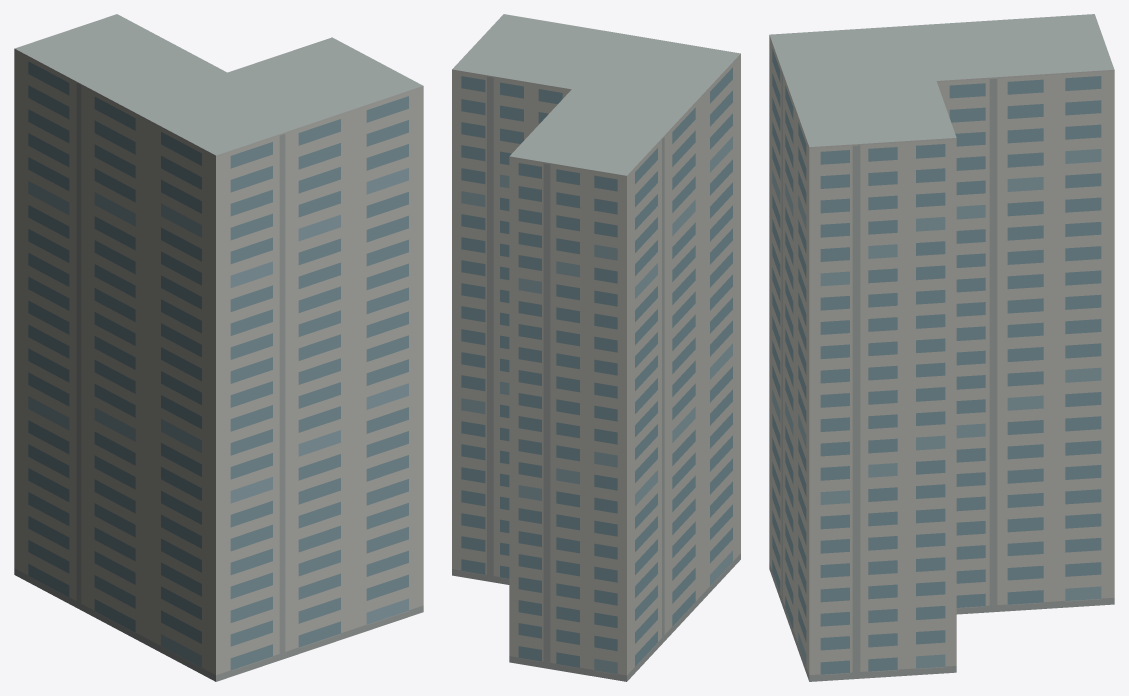
Rendered from residential-294091d3-6274-4f17-ba25-ad09cb0d39b6.glb.
3 views of the same model, side by side, from view 1: azimuth 30°, elevation 25°; view 2: azimuth 150°, elevation 25°; view 3: azimuth 270°, elevation 25° (orthographic). The views are drawn at different scales.
Visible parts, largest first — view 1: residential-294091d3-6274-4f17-ba25-ad09cb0d39b6.tmp; view 2: residential-294091d3-6274-4f17-ba25-ad09cb0d39b6.tmp; view 3: residential-294091d3-6274-4f17-ba25-ad09cb0d39b6.tmp.
Part boxes in pixels (bbox=[...]): residential-294091d3-6274-4f17-ba25-ad09cb0d39b6.tmp: bbox=[14, 14, 423, 681]; residential-294091d3-6274-4f17-ba25-ad09cb0d39b6.tmp: bbox=[452, 14, 740, 681]; residential-294091d3-6274-4f17-ba25-ad09cb0d39b6.tmp: bbox=[769, 14, 1114, 681].
Size of the model in its own units: 49.68 by 93 by 54.4.
